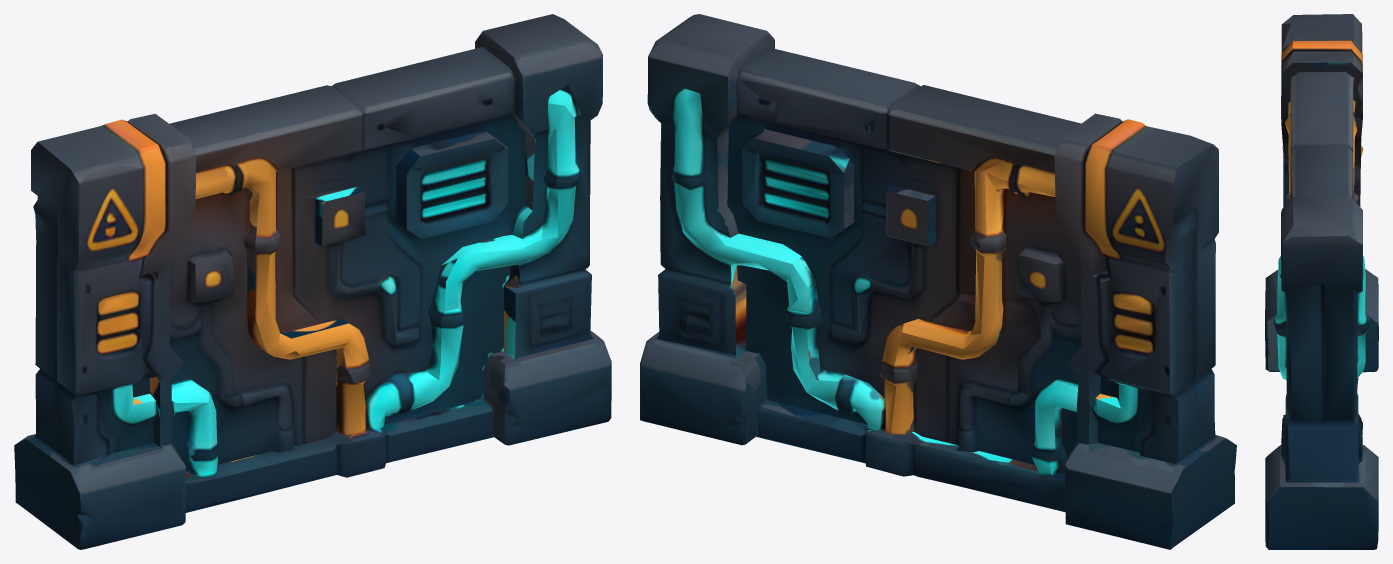
Rendered from NewBG2.fbx.
The picture shows the model from 3 angles, left to right: view 1: azimuth 30°, elevation 25°; view 2: azimuth 150°, elevation 25°; view 3: azimuth 270°, elevation 25°; orthographic projection. The views are drawn at different scales.
Parts seen in each view (by area): view 1: tmp13o76p09.ply; view 2: tmp13o76p09.ply; view 3: tmp13o76p09.ply.
Part boxes in pixels (x1,y1,x2,y2): tmp13o76p09.ply: (14,14,611,549); tmp13o76p09.ply: (640,14,1236,549); tmp13o76p09.ply: (1265,14,1378,549).
Bounding box in the file's own units: 199 × 133 × 42.84.
Materials: 1 (1 with a texture image).
